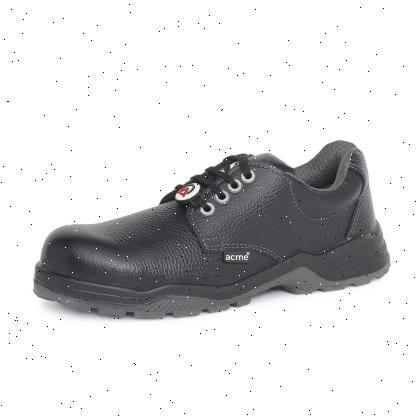bota: (31, 136, 396, 322)
